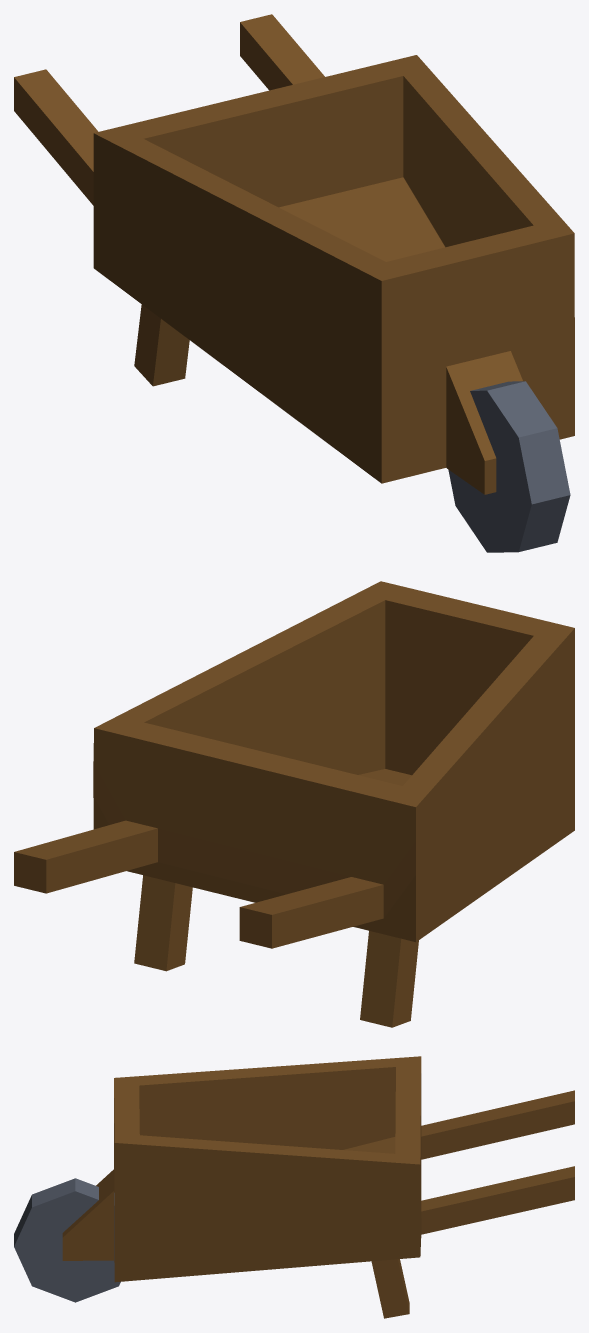
Rendered from wheelbarrow.glb.
3 renders of one model, top to bottom at view 1: azimuth 30°, elevation 25°; view 2: azimuth 150°, elevation 25°; view 3: azimuth 270°, elevation 25°, orthographic. The views are drawn at different scales.
Parts seen in each view (by area): view 1: barrow, wheel; view 2: barrow; view 3: barrow, wheel.
Part boxes in pixels (x1=…): barrow: x1=14, y1=14, x2=574, y2=494; wheel: x1=448, y1=381, x2=570, y2=552; barrow: x1=14, y1=581, x2=574, y2=1027; barrow: x1=62, y1=1056, x2=574, y2=1318; wheel: x1=14, y1=1178, x2=120, y2=1302.
Size of the model in its own units: 0.1 by 0.08 by 0.219.
